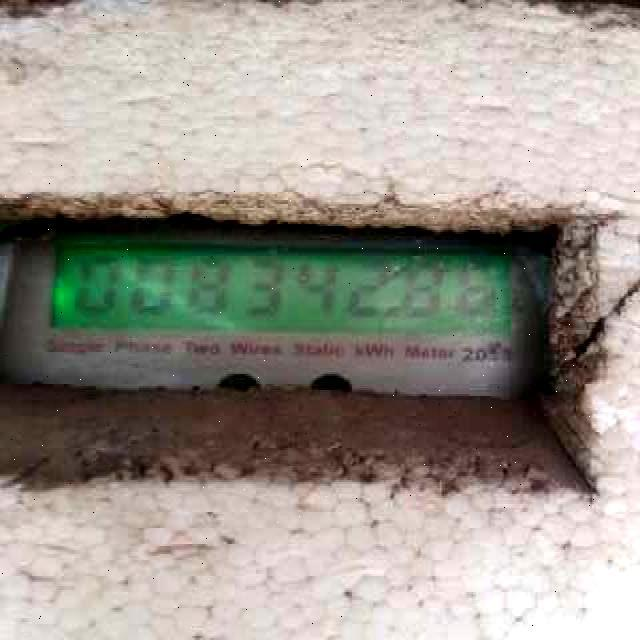LCD: (44, 235, 531, 351)
